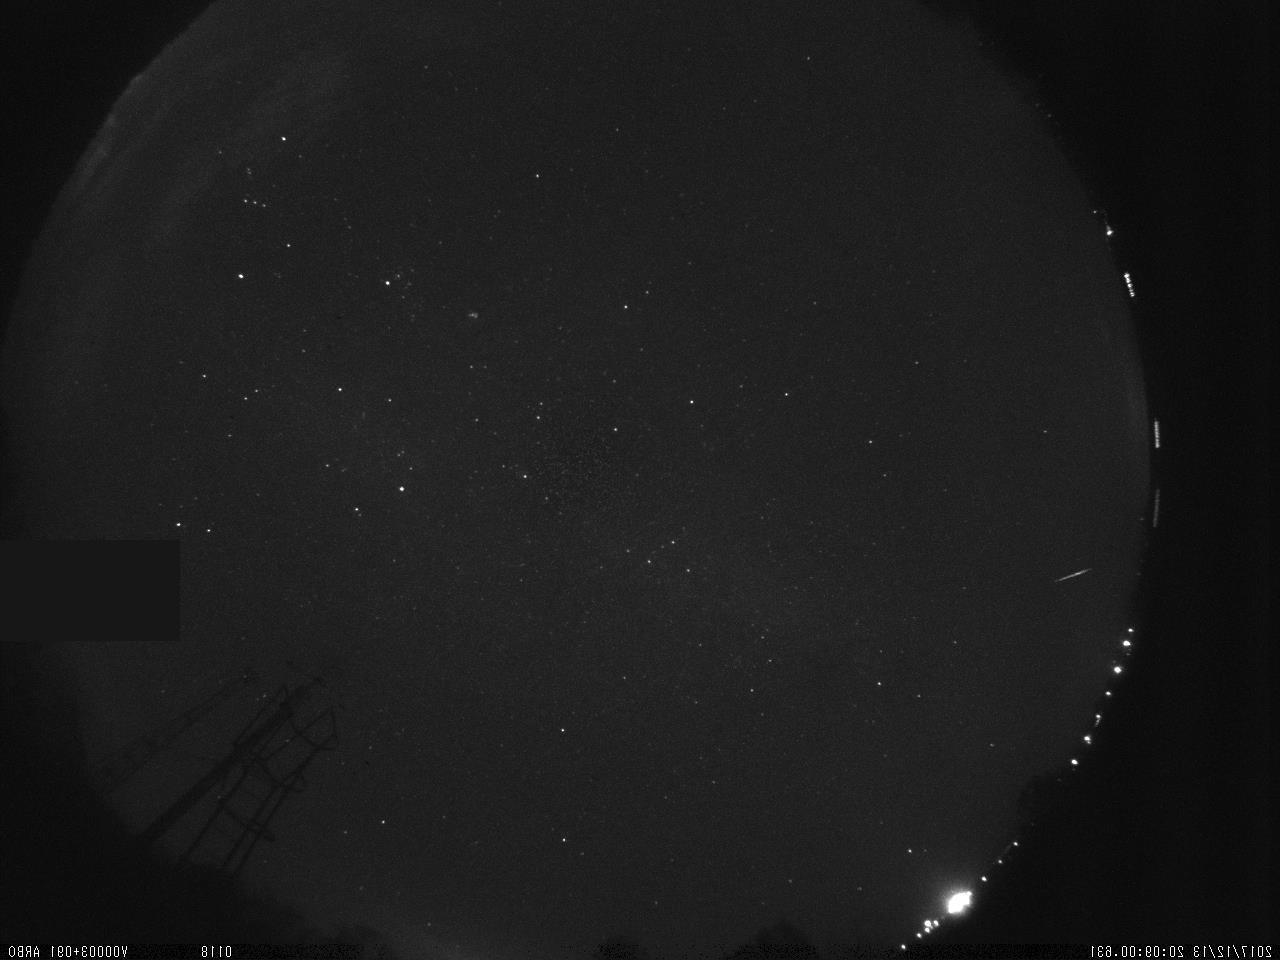meteor: (1043, 548, 1107, 595)
